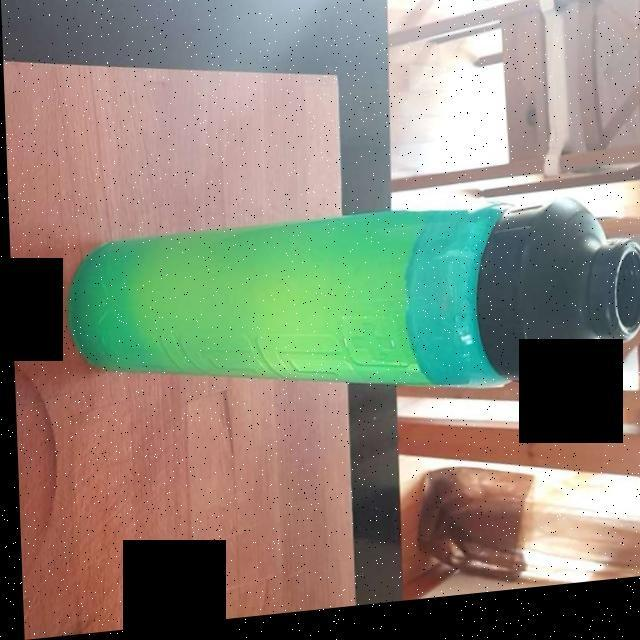water: (70, 226, 465, 397)
